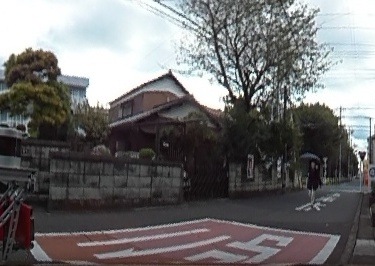person: (307, 159, 320, 203)
